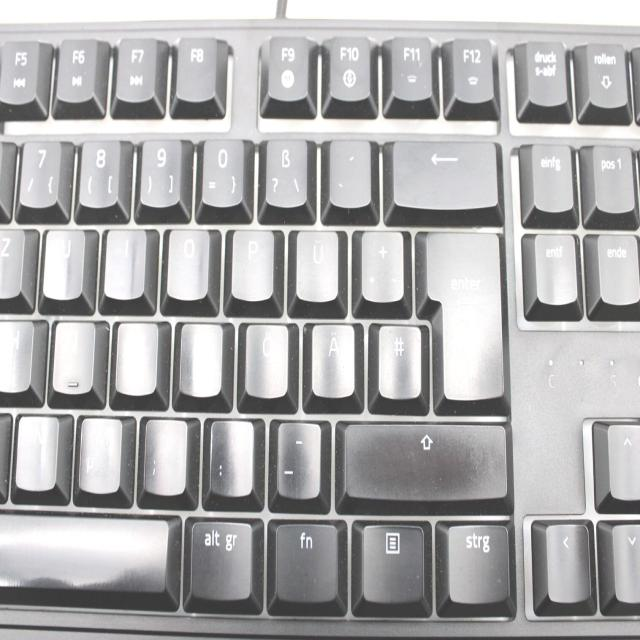0: (199, 132, 244, 208)
6: (0, 139, 11, 209)
7: (18, 134, 60, 210)
8: (77, 133, 121, 210)
9: (137, 132, 181, 208)
accent: (327, 132, 371, 207)
ae: (309, 317, 355, 398)
altgr-right: (186, 514, 255, 605)
comma: (141, 412, 187, 495)
del: (384, 135, 502, 211)
enter: (419, 223, 506, 409)
h: (0, 313, 33, 393)
hash: (375, 318, 423, 398)
i: (101, 222, 146, 299)
j: (50, 314, 100, 395)
k: (113, 315, 157, 396)
keyboard: (0, 8, 640, 640)
l: (175, 316, 228, 397)
m: (76, 410, 122, 494)
minus: (274, 415, 322, 499)
n: (14, 408, 64, 491)
o: (163, 221, 211, 300)
oe: (242, 317, 288, 398)
p: (228, 222, 274, 301)
plus: (358, 227, 406, 307)
point: (205, 412, 254, 498)
shift-right: (338, 416, 510, 502)
space: (0, 505, 173, 593)
ss: (263, 132, 308, 208)
strg-right: (441, 519, 512, 607)
u: (41, 223, 84, 301)
ue: (293, 223, 339, 302)
z: (0, 221, 24, 299)
